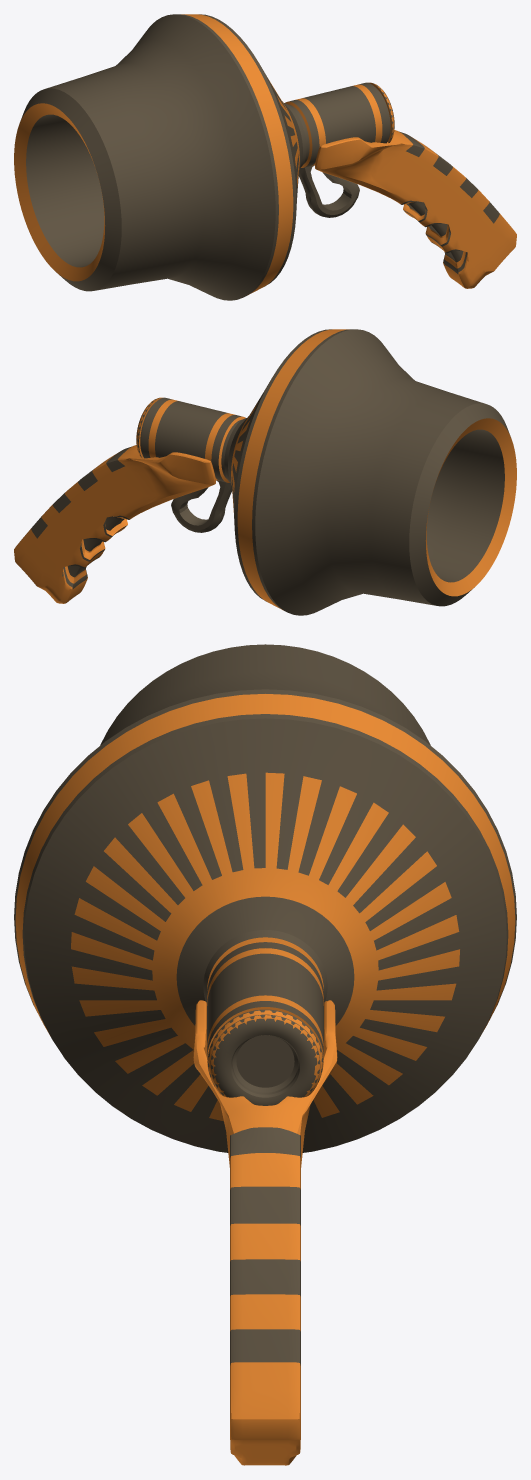
File: nozzlecolour.fbx
3 views of the same model, one above another, from view 1: azimuth 30°, elevation 25°; view 2: azimuth 150°, elevation 25°; view 3: azimuth 270°, elevation 25° (orthographic). The views are drawn at different scales.
Parts seen in each view (by area): view 1: Cylinder.011, Cylinder.002, Cylinder.001; view 2: Cylinder.011, Cylinder.002, Cylinder.001; view 3: Cylinder.011, Cylinder.002.
Part boxes in pixels (x1=…): Cylinder.011: x1=14, y1=14, x2=394, y2=300; Cylinder.002: x1=315, y1=130, x2=516, y2=288; Cylinder.001: x1=298, y1=165, x2=359, y2=217; Cylinder.011: x1=136, y1=329, x2=516, y2=615; Cylinder.002: x1=14, y1=445, x2=215, y2=603; Cylinder.001: x1=171, y1=480, x2=232, y2=532; Cylinder.011: x1=14, y1=644, x2=516, y2=1152; Cylinder.002: x1=193, y1=1000, x2=337, y2=1465.
Bounding box in the file's own units: 151 × 104 × 85.77.
